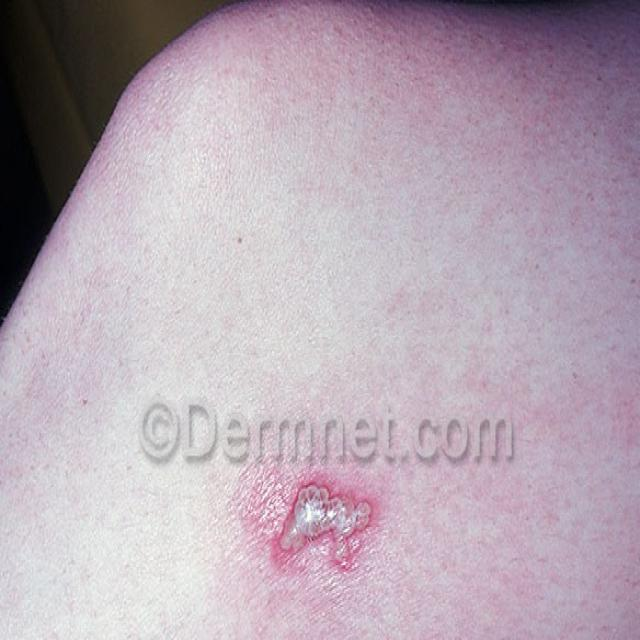Viral Infections: (230, 432, 385, 634)
